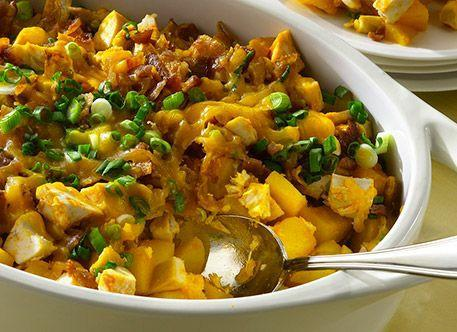AlooGobi: (1, 0, 399, 300)
